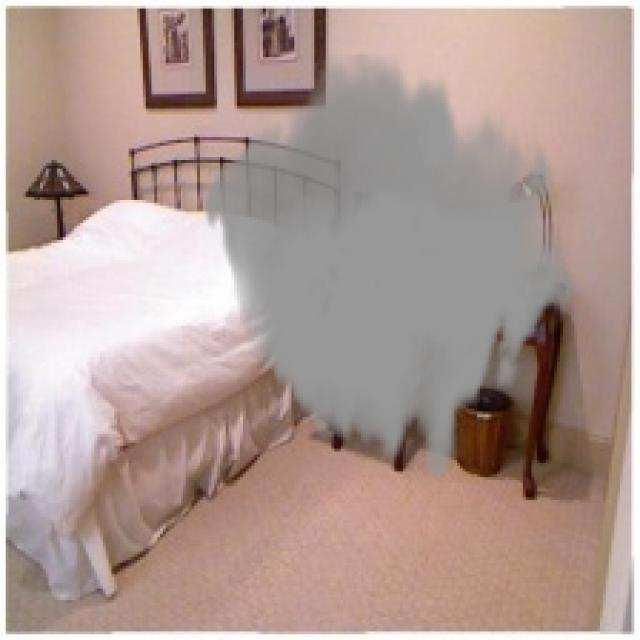smoke: (203, 54, 574, 474)
